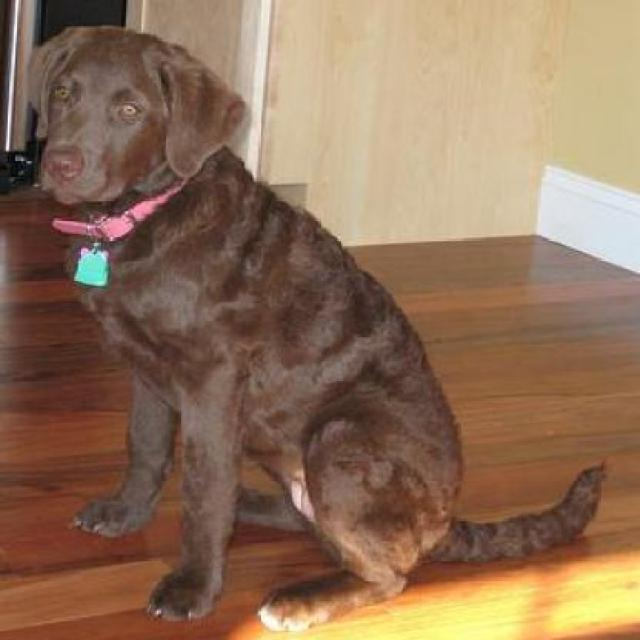Dog: (26, 21, 608, 638)
